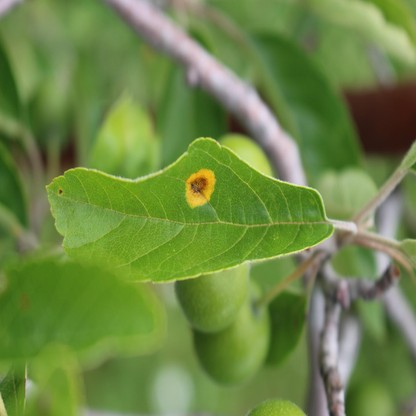rust: (186, 170, 216, 207)
